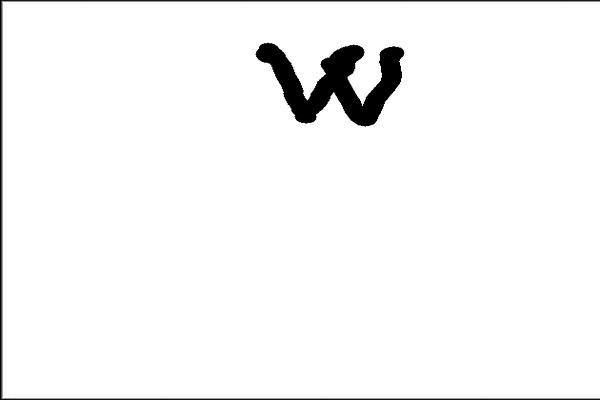w: (239, 25, 431, 139)
